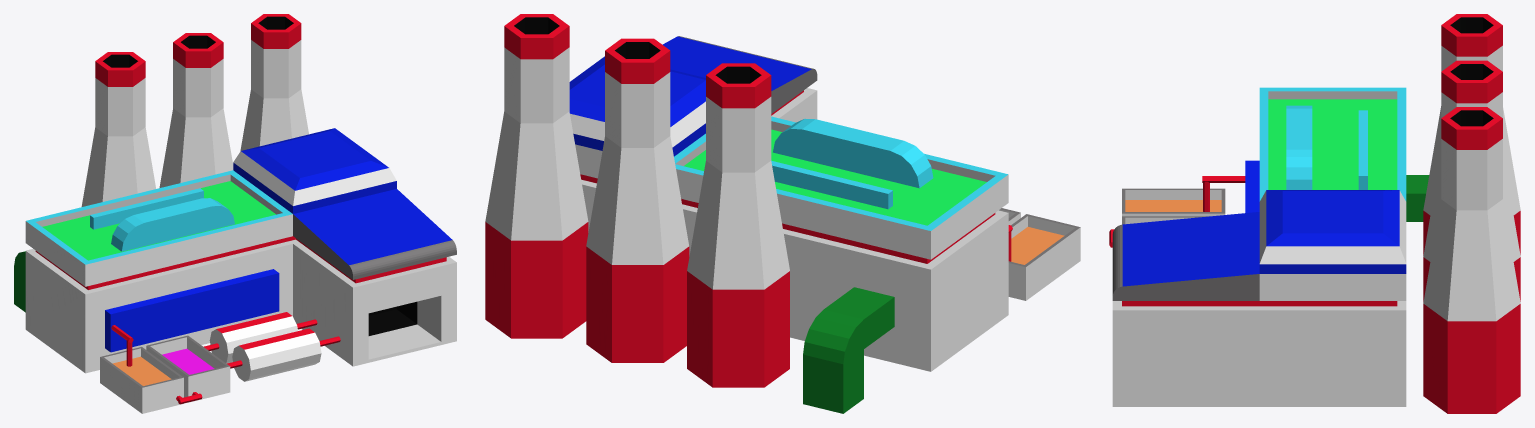
The model's file is factory.fbx.
The picture shows the model from 3 angles, left to right: view 1: azimuth 30°, elevation 25°; view 2: azimuth 150°, elevation 25°; view 3: azimuth 270°, elevation 25°; orthographic projection. The views are drawn at different scales.
Parts seen in each view (by area): view 1: Cube, hatnhan, Cube.001, Cylinder, pipe; view 2: hatnhan, Cube, Cube.001; view 3: Cube, hatnhan, Cube.001, pipe.
Part boxes in pixels (left/top/right/bottom): Cube: left=14, top=128, right=456, bottom=373; hatnhan: left=81, top=14, right=308, bottom=206; Cube.001: left=100, top=335, right=230, bottom=413; Cylinder: left=209, top=312, right=321, bottom=381; pipe: left=111, top=319, right=340, bottom=404; hatnhan: left=485, top=14, right=789, bottom=387; Cube: left=569, top=36, right=1008, bottom=413; Cube.001: left=999, top=208, right=1080, bottom=300; Cube: left=1112, top=87, right=1429, bottom=406; hatnhan: left=1423, top=14, right=1520, bottom=413; Cube.001: left=1122, top=188, right=1225, bottom=224; pipe: left=1109, top=176, right=1245, bottom=247.
Size of the model in its own units: 2400 by 1689 by 2242.
Materials: 1 (1 with a texture image).
